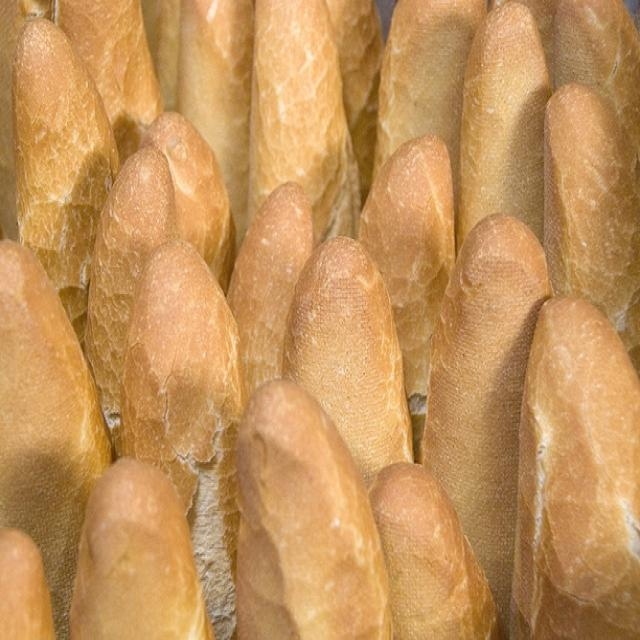面包点心: (22, 16, 605, 626)
